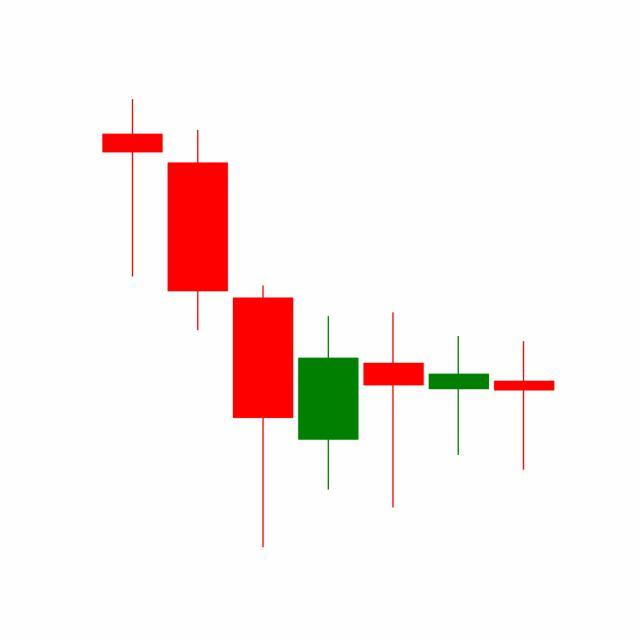Hikkake Pattern: (229, 282, 555, 549)
